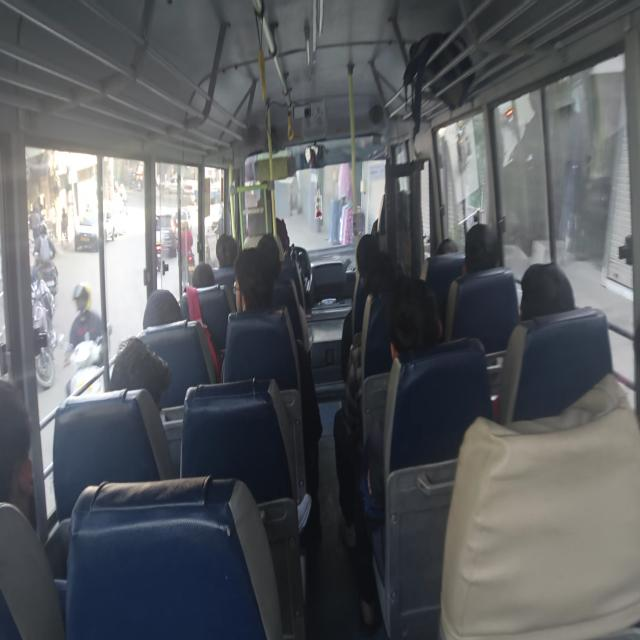person: (354, 276, 442, 629), (221, 245, 322, 534), (0, 378, 66, 637), (108, 336, 180, 476), (444, 222, 501, 341), (0, 379, 35, 525), (63, 280, 104, 396), (109, 335, 171, 411), (519, 261, 575, 321), (68, 281, 103, 348), (461, 222, 500, 274), (142, 288, 183, 329), (215, 233, 238, 268), (191, 261, 215, 288), (60, 207, 68, 244)
